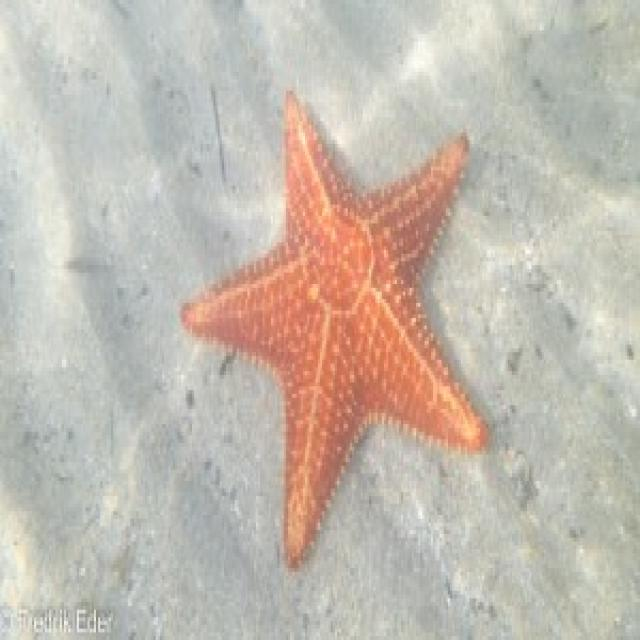Starfish: (178, 66, 506, 573)
